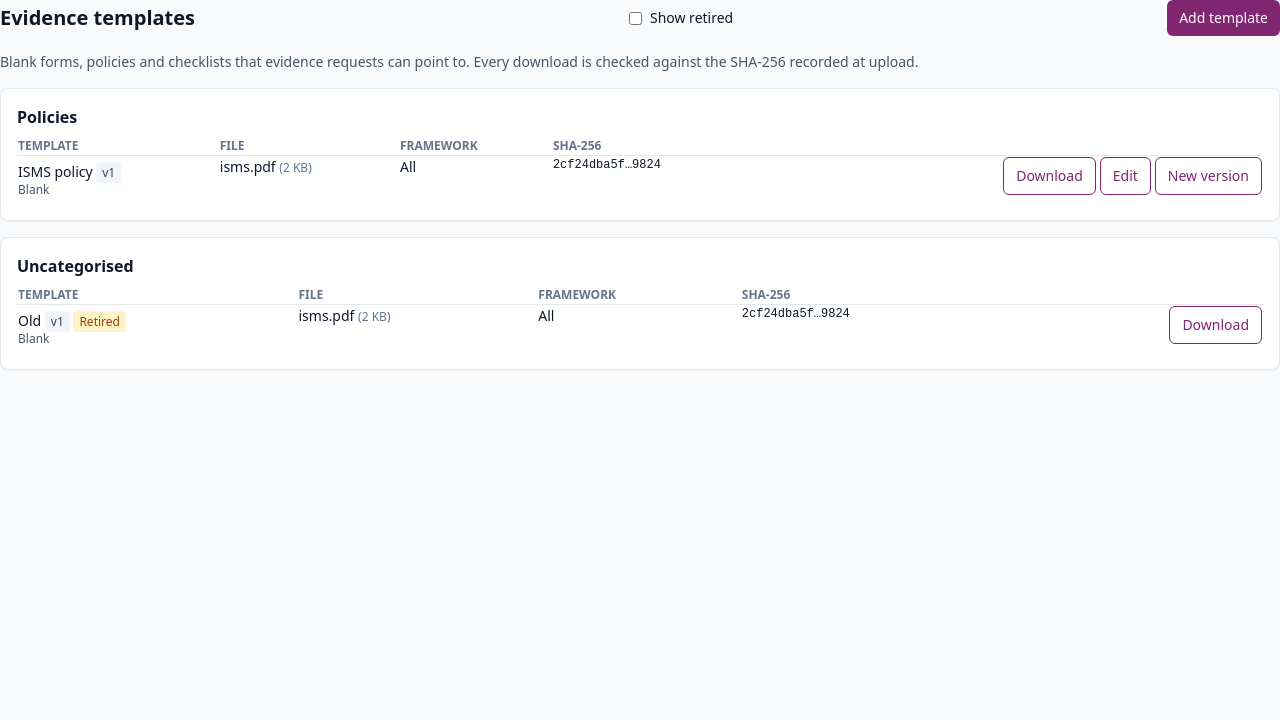
uploading sends the text fields and the file; a new version carries replacesId
Later steps or results of the test are not shown.
Click the button with aria-label "New version of ISMS policy". click: click(1208, 176)
box: [1155, 157, 1262, 195]
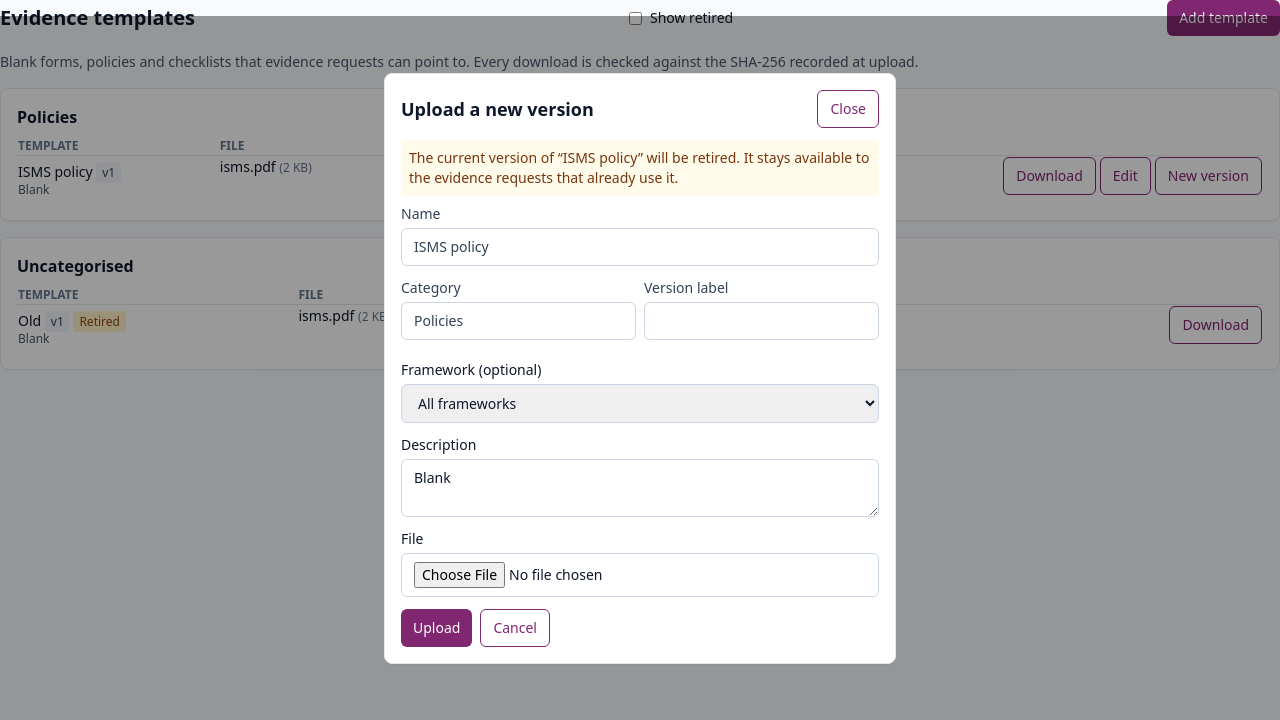
Expected: the form named "Template upload" is shown, [401, 140, 879, 646]
Expected: the text "will be retired" is shown, [409, 148, 869, 186]
